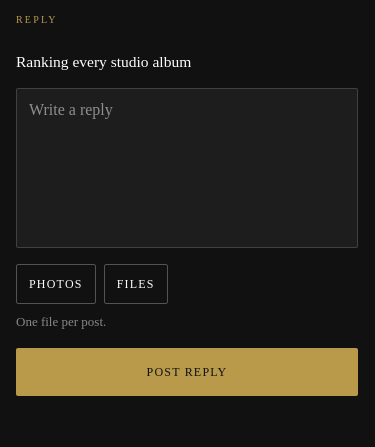
Test: ComposerScreen › consumes a pending smoke-attach file when Files is tapped in Debug
Click the button with test id "forum-composer-attach-files".
click(136, 284)  # box 104,264 -> 168,304
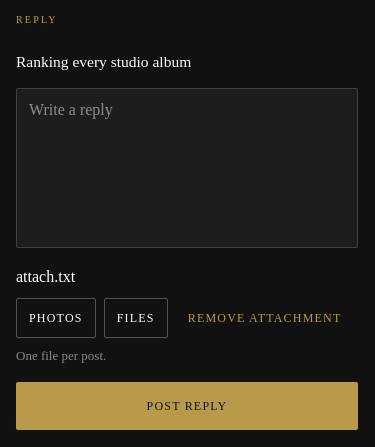
Expected: the text "attach.txt" is shown, 16,268 -> 75,285
